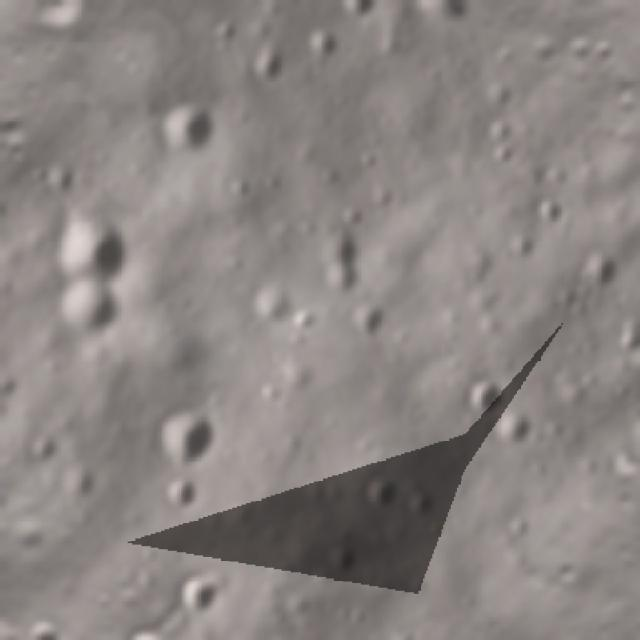crater: (43, 188, 148, 294), (143, 384, 243, 484), (292, 216, 392, 316), (48, 267, 137, 356), (145, 84, 233, 171), (169, 557, 236, 625), (334, 281, 400, 348), (480, 394, 546, 460), (240, 270, 305, 335), (349, 459, 413, 524), (293, 7, 356, 70), (453, 362, 516, 424), (151, 456, 212, 518), (244, 34, 305, 95), (48, 454, 109, 515), (571, 237, 631, 297), (394, 472, 448, 526), (316, 532, 370, 586), (198, 2, 250, 53), (279, 289, 330, 340), (36, 150, 87, 201), (524, 183, 574, 234), (472, 67, 522, 116), (22, 423, 72, 472), (604, 313, 640, 364), (327, 0, 388, 29), (483, 133, 525, 175), (0, 358, 31, 407), (225, 168, 260, 204), (252, 623, 311, 640), (266, 0, 320, 12)
